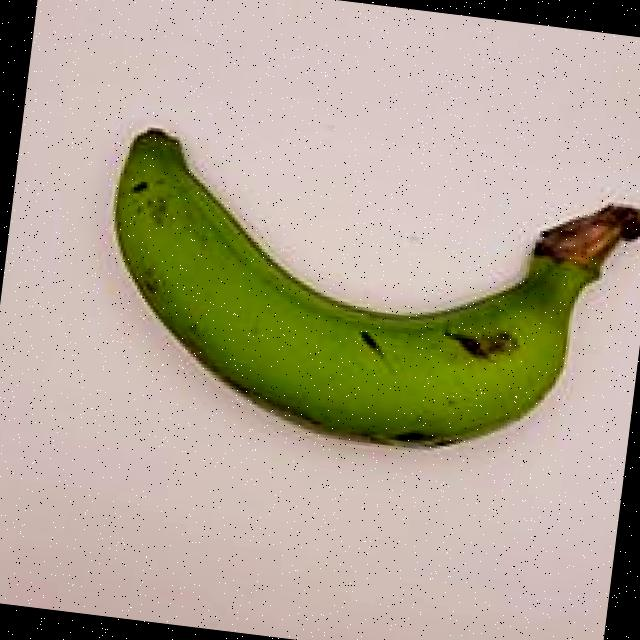Raw: (70, 68, 640, 495)
